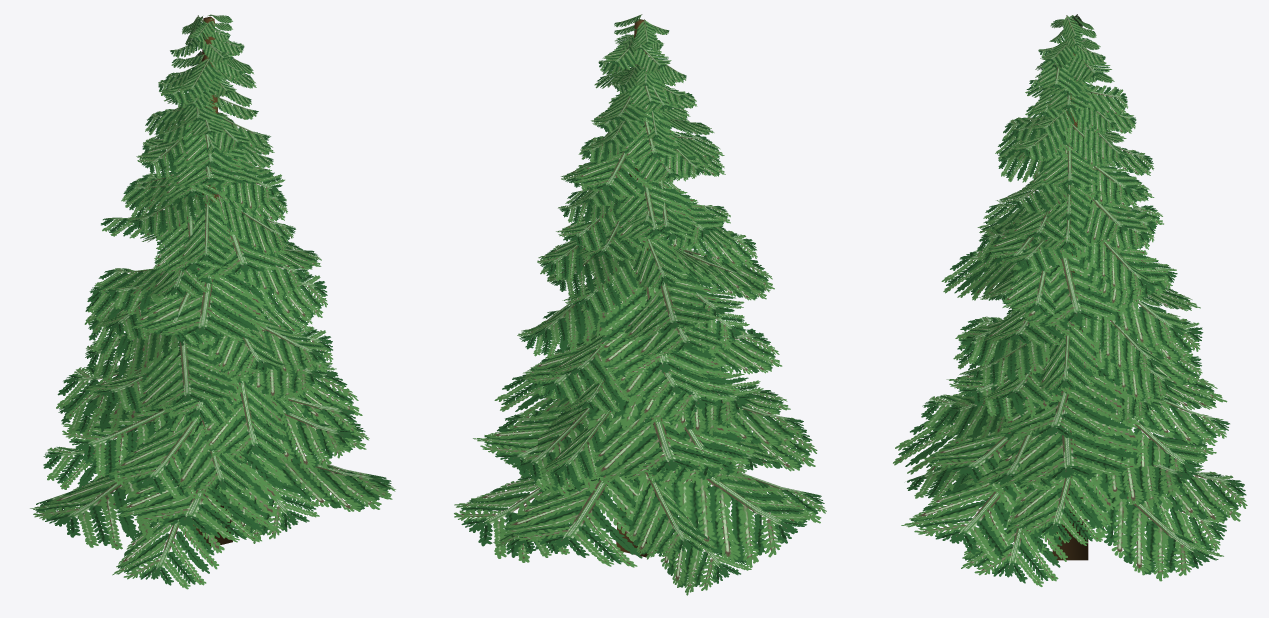
Rendered from PineTree1.fbx.
The picture shows the model from 3 angles, left to right: view 1: azimuth 30°, elevation 25°; view 2: azimuth 150°, elevation 25°; view 3: azimuth 270°, elevation 25°; orthographic projection. The views are drawn at different scales.
Parts seen in each view (by area): view 1: Pine.191; view 2: Pine.191; view 3: Pine.191.
Part boxes in pixels (box(x1,y1,x2,y2)): Pine.191: box(30, 14, 395, 589); Pine.191: box(454, 14, 826, 595); Pine.191: box(893, 14, 1247, 586).
Size of the model in its own units: 561 by 897 by 588.
